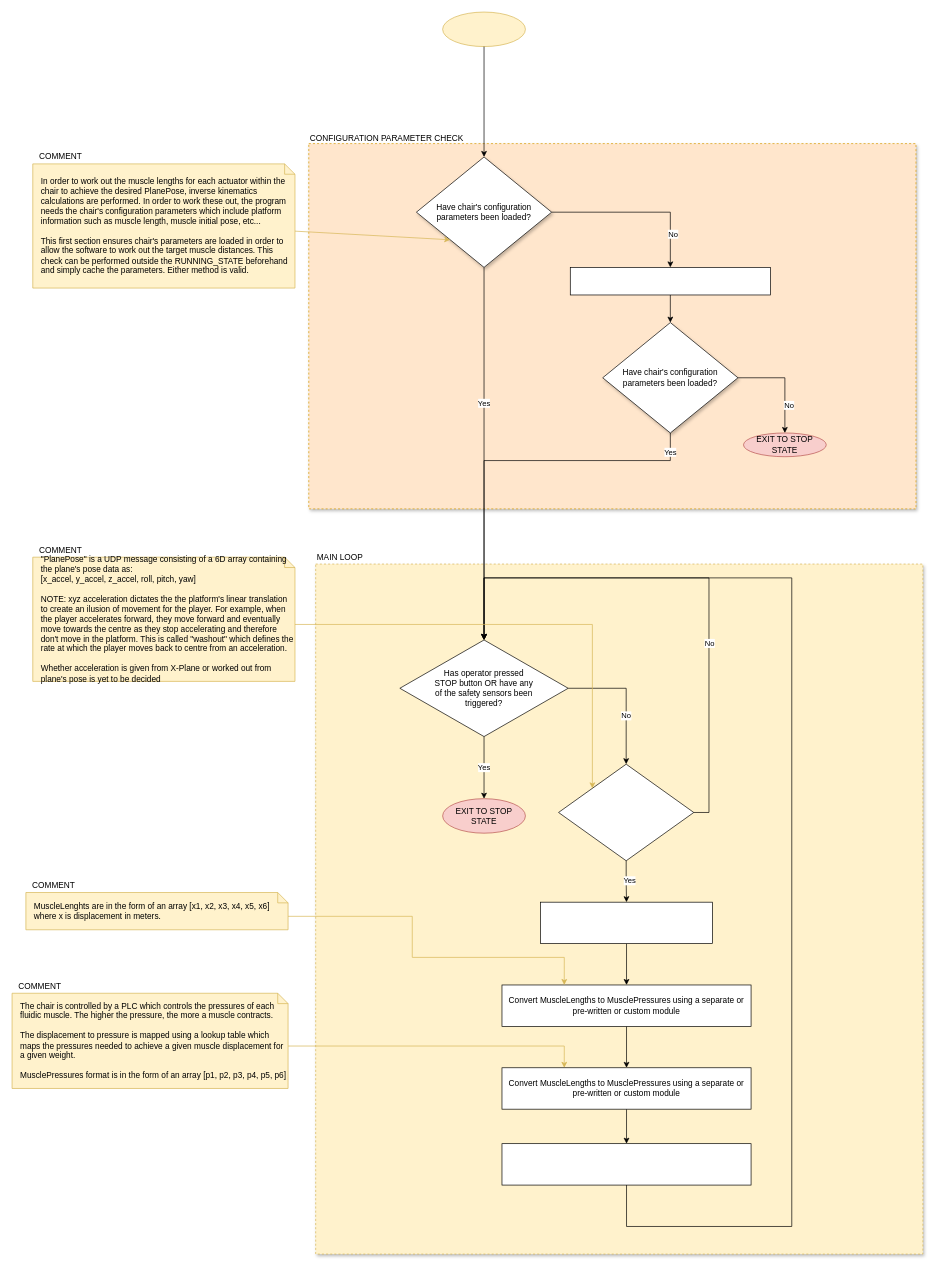
Image size: 939x1271. Some labels were removed from this diagram. Each missing label, with the centre of its shape:
"Attempt to reload chair configuration parameters" belongs at (x=670, y=281).
"Convert PlanePose to MuscleLengths using kinematics.py module" belongs at (x=626, y=922).
"ENTER STATE" belongs at (x=483, y=29).
"Is there an available UDP PlanePose message?" belongs at (x=626, y=812).
"Send MusclePressures to PLC via UDP" belongs at (x=626, y=1164).
